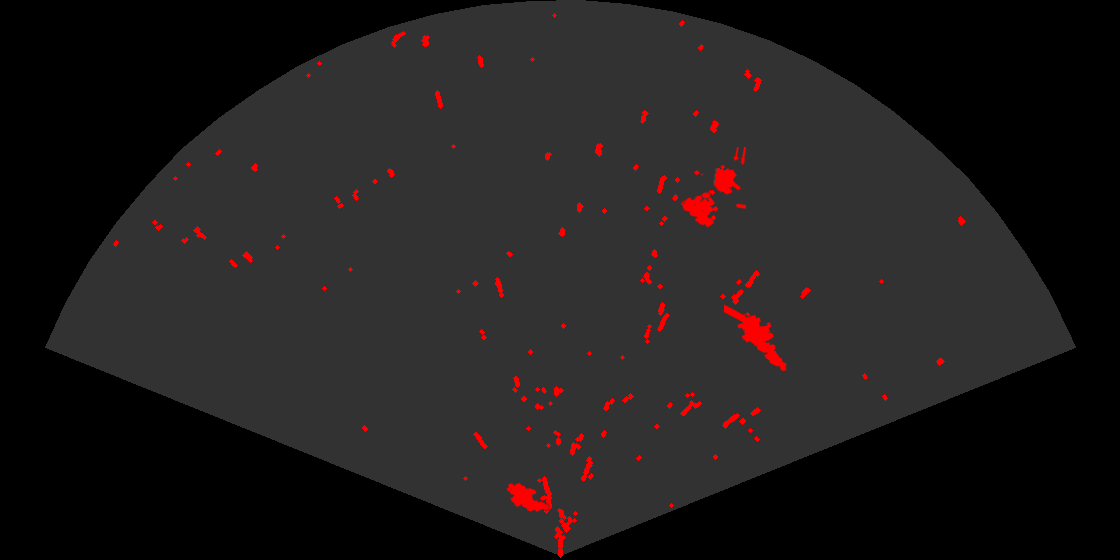AUV: (505, 481, 550, 513)
cage: (681, 147, 746, 229)
frogman: (724, 303, 788, 373)
